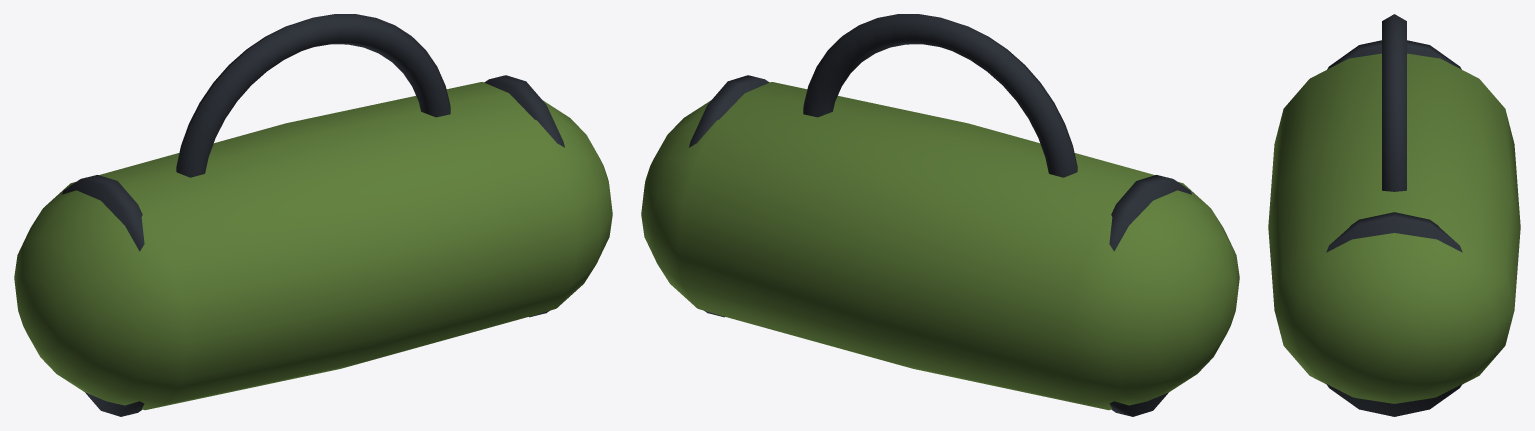
Rendered from duffel.glb.
3 views of the same model, side by side, from view 1: azimuth 30°, elevation 25°; view 2: azimuth 150°, elevation 25°; view 3: azimuth 270°, elevation 25° (orthographic). The views are drawn at different scales.
Parts seen in each view (by area): view 1: bag, strap, end-0.36, end0.36; view 2: bag, strap, end-0.36, end0.36; view 3: bag, strap, end0.36, end-0.36.
Boxes of the visible parts, x1,y1,x2,y2 form: bag: (14, 82, 612, 410); strap: (176, 14, 450, 177); end-0.36: (62, 175, 144, 416); end0.36: (484, 75, 564, 317); bag: (641, 82, 1239, 410); strap: (803, 14, 1077, 177); end-0.36: (1109, 175, 1191, 416); end0.36: (689, 75, 769, 317); bag: (1268, 53, 1520, 403); strap: (1382, 14, 1406, 191); end0.36: (1326, 212, 1462, 416); end-0.36: (1327, 40, 1461, 69).
Bounding box in the file's own units: 0.99 × 0.575 × 0.44.
